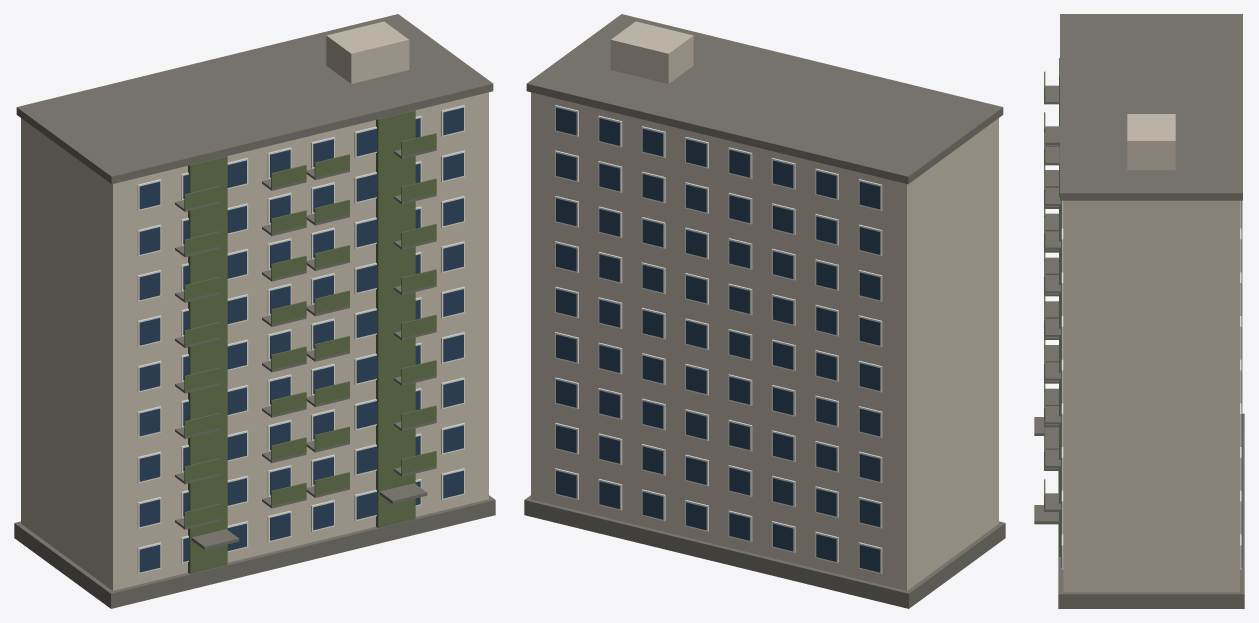
The model's file is apt9.glb.
The picture shows the model from 3 angles, left to right: view 1: azimuth 30°, elevation 25°; view 2: azimuth 150°, elevation 25°; view 3: azimuth 270°, elevation 25°; orthographic projection. The views are drawn at different scales.
Parts seen in each view (by area): view 1: Apartment; view 2: Apartment; view 3: Apartment.
Part boxes in pixels (x1,y1,x2,y2): Apartment: (14, 14, 495, 608); Apartment: (524, 14, 1005, 608); Apartment: (1034, 14, 1244, 608).
Size of the model in its own units: 26.6 by 30.5 by 13.1.
